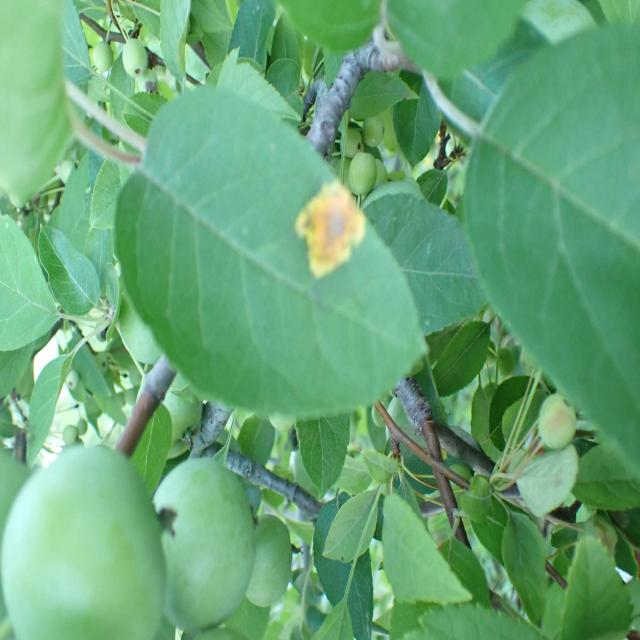rust: (113, 83, 429, 424)
